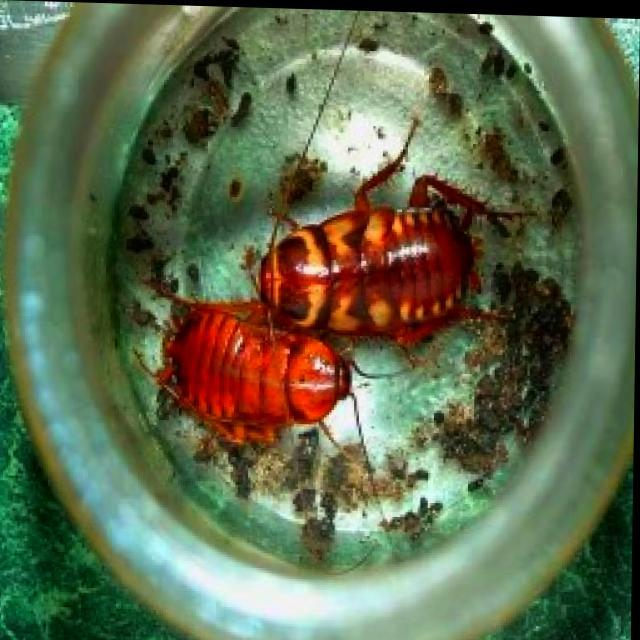cockroach: (240, 188, 503, 366), (125, 286, 379, 469)
